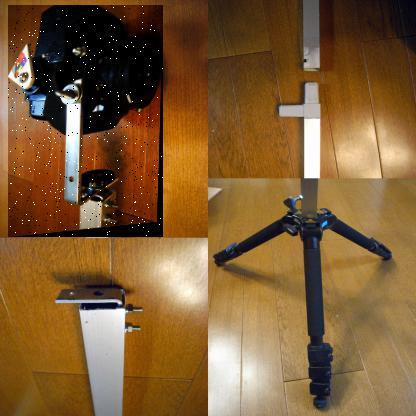Camera: (9, 6, 165, 239)
